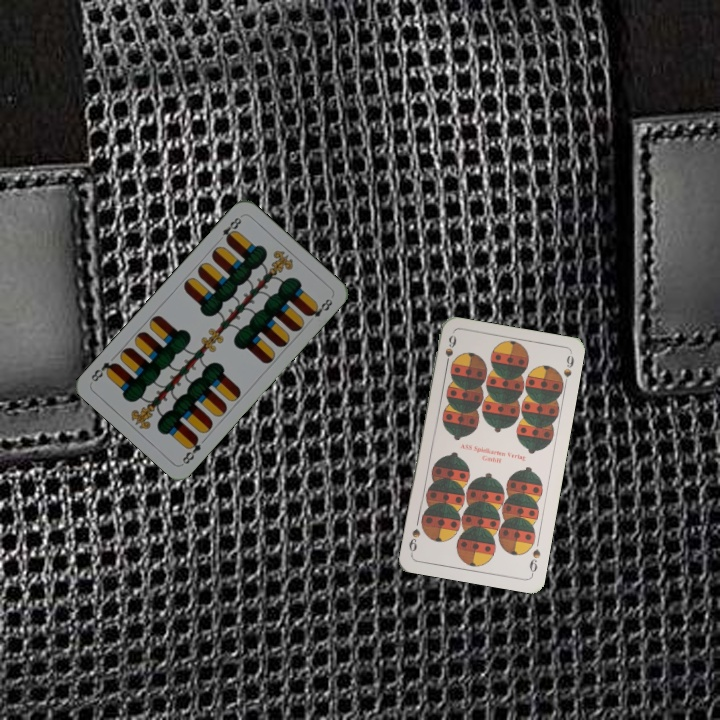E8: (213, 212, 245, 245), (178, 432, 204, 467)
S9: (441, 331, 459, 371), (525, 545, 543, 577)
